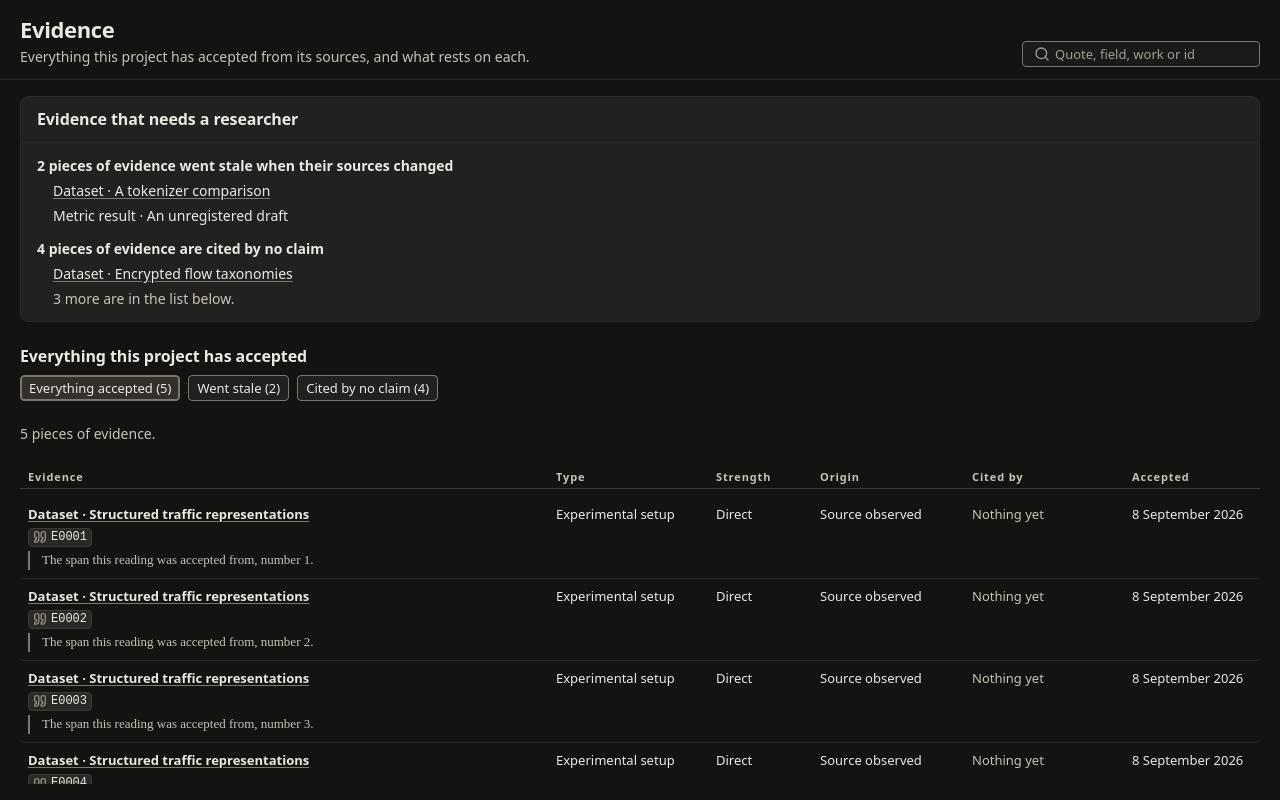
Test case: the questions the accepted record can be asked › offers the way back when a find hides everything
Expected: the message reads "5 pieces of evidence.", [20, 424, 156, 443]
Type "no reading says this" into the search field at x=1141, y=54, box [1022, 41, 1260, 67]
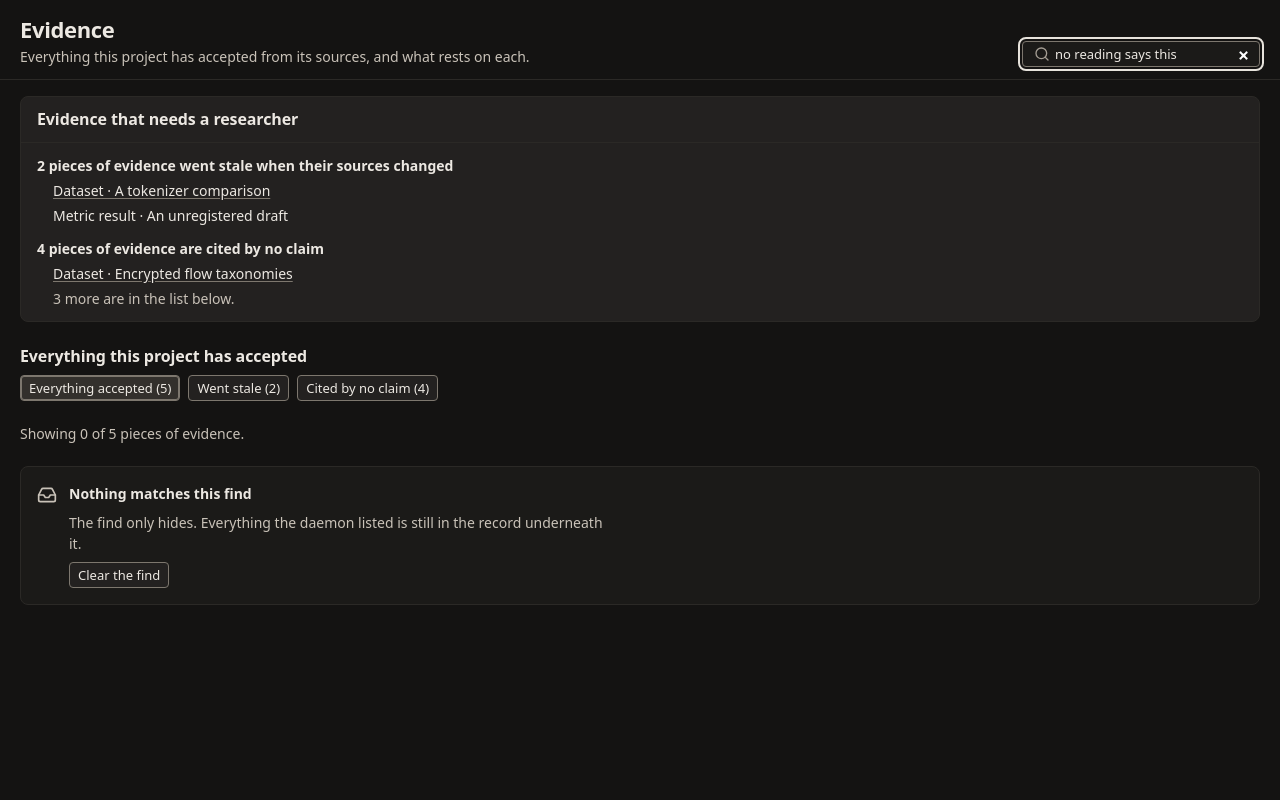
Result: the text "Nothing matches this find" is shown at [69, 484, 252, 503]
Result: the text "The find only hides" is shown at [69, 513, 603, 553]
Click the button "Clear the find" at x=119, y=575, box [69, 562, 169, 588]
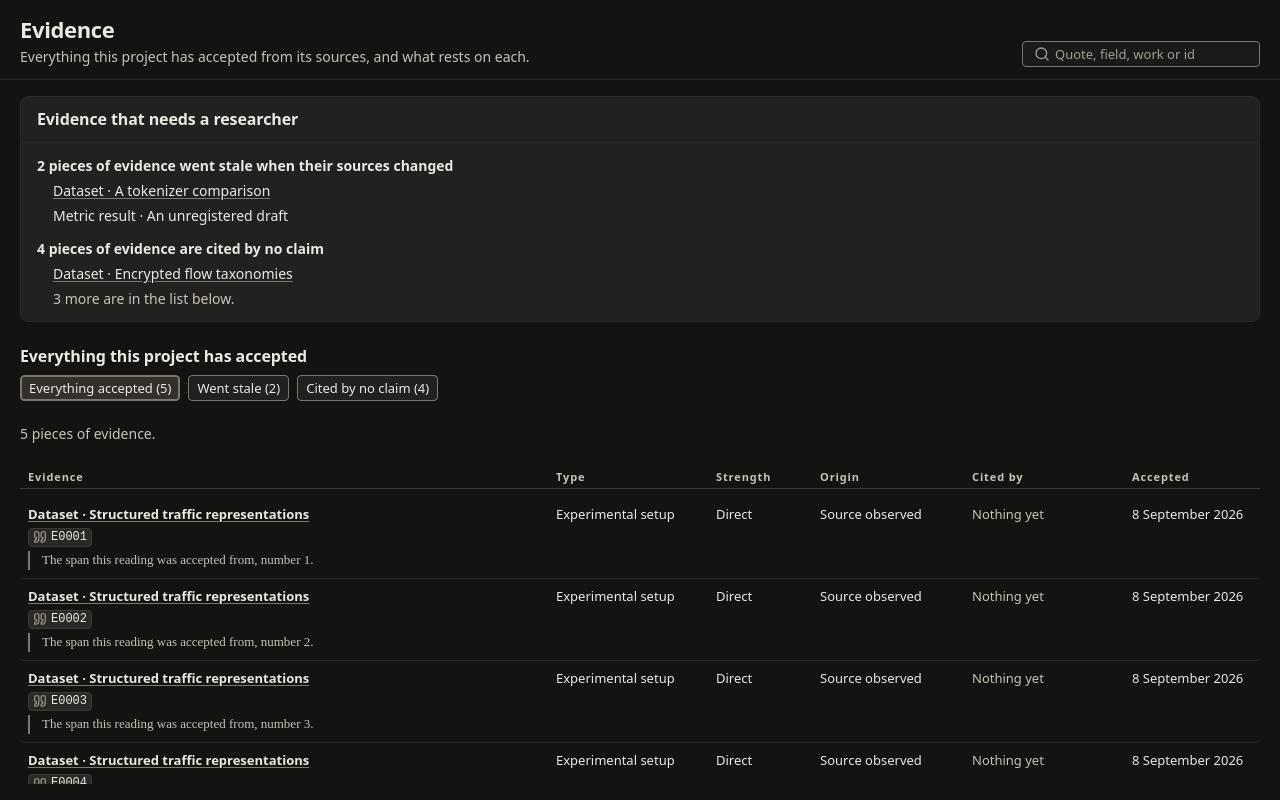
Result: the message reads "5 pieces of evidence." at [20, 424, 156, 443]
